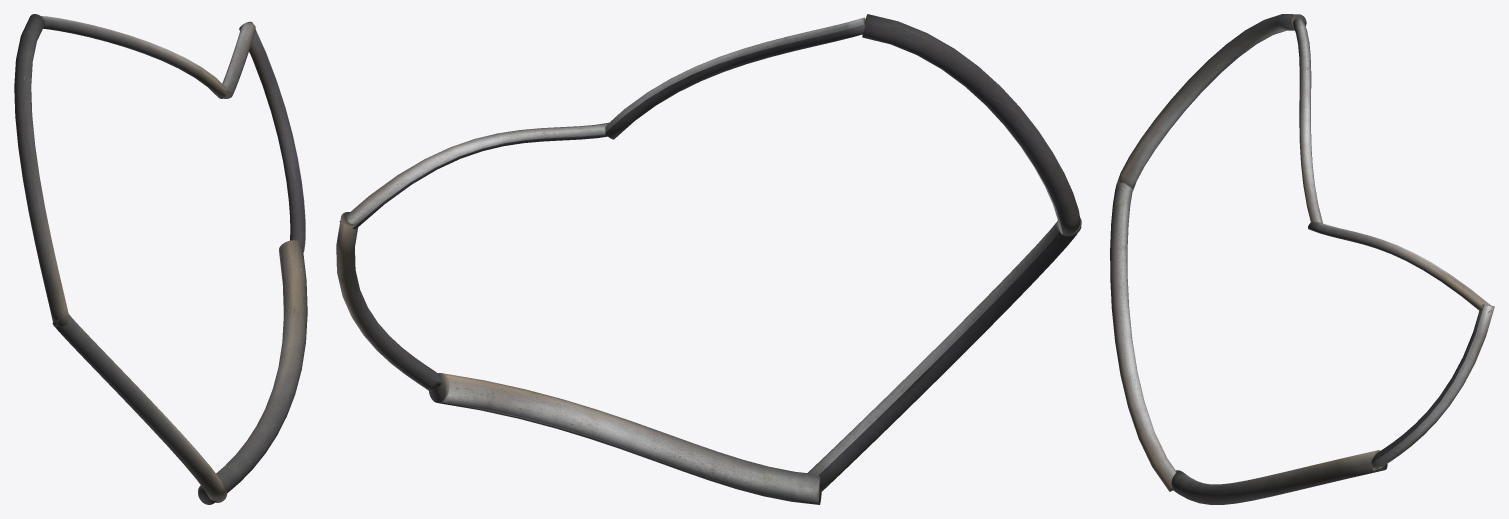
Rendered from heartmap.fbx.
3 renders of one model, left to right at view 1: azimuth 30°, elevation 25°; view 2: azimuth 150°, elevation 25°; view 3: azimuth 270°, elevation 25°, orthographic. The views are drawn at different scales.
Parts seen in each view (by area): view 1: BézierCurve.005, BézierCurve.001, BézierCurve, BézierCurve.004, BézierCurve.002, BézierCurve.003; view 2: BézierCurve.005, BézierCurve, BézierCurve.001, BézierCurve.002, BézierCurve.003, BézierCurve.004; view 3: BézierCurve, BézierCurve.001, BézierCurve.005, BézierCurve.004, BézierCurve.002, BézierCurve.003.
Part boxes in pixels (x1,y1,x2,y2): BézierCurve.005: [198, 240, 307, 504]; BézierCurve.001: [14, 14, 68, 326]; BézierCurve: [52, 314, 227, 502]; BézierCurve.004: [239, 21, 305, 252]; BézierCurve.002: [41, 16, 226, 98]; BézierCurve.003: [222, 22, 255, 98]; BézierCurve.005: [429, 373, 821, 504]; BézierCurve: [807, 217, 1081, 492]; BézierCurve.001: [862, 14, 1081, 235]; BézierCurve.002: [605, 17, 865, 139]; BézierCurve.003: [339, 122, 608, 229]; BézierCurve.004: [336, 212, 442, 391]; BézierCurve: [1110, 182, 1176, 491]; BézierCurve.001: [1116, 14, 1306, 191]; BézierCurve.005: [1171, 450, 1387, 504]; BézierCurve.004: [1371, 304, 1494, 470]; BézierCurve.002: [1293, 18, 1322, 223]; BézierCurve.003: [1308, 221, 1492, 312].
Size of the model in its own units: 8093 by 8746 by 7121.
